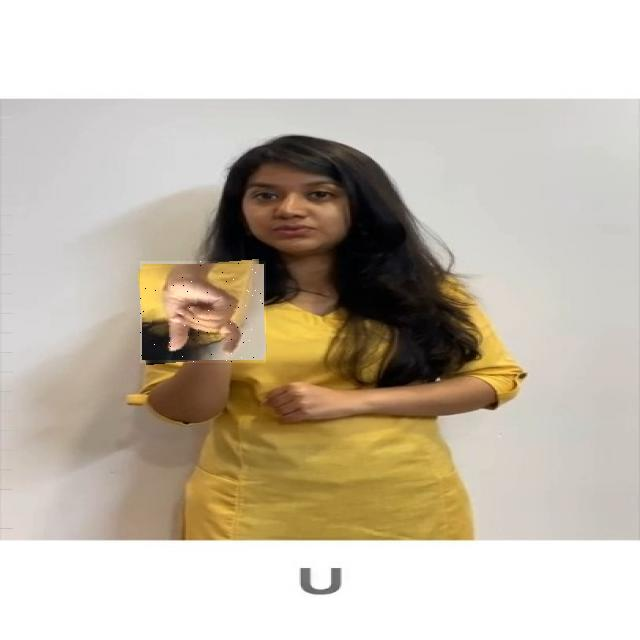U: (140, 261, 266, 363)
